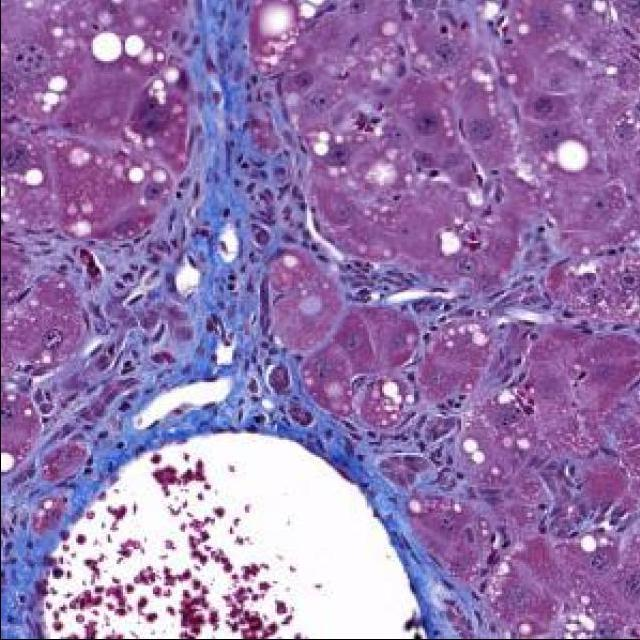fibrosis: (76, 0, 301, 478), (272, 424, 502, 640), (0, 488, 72, 639)
